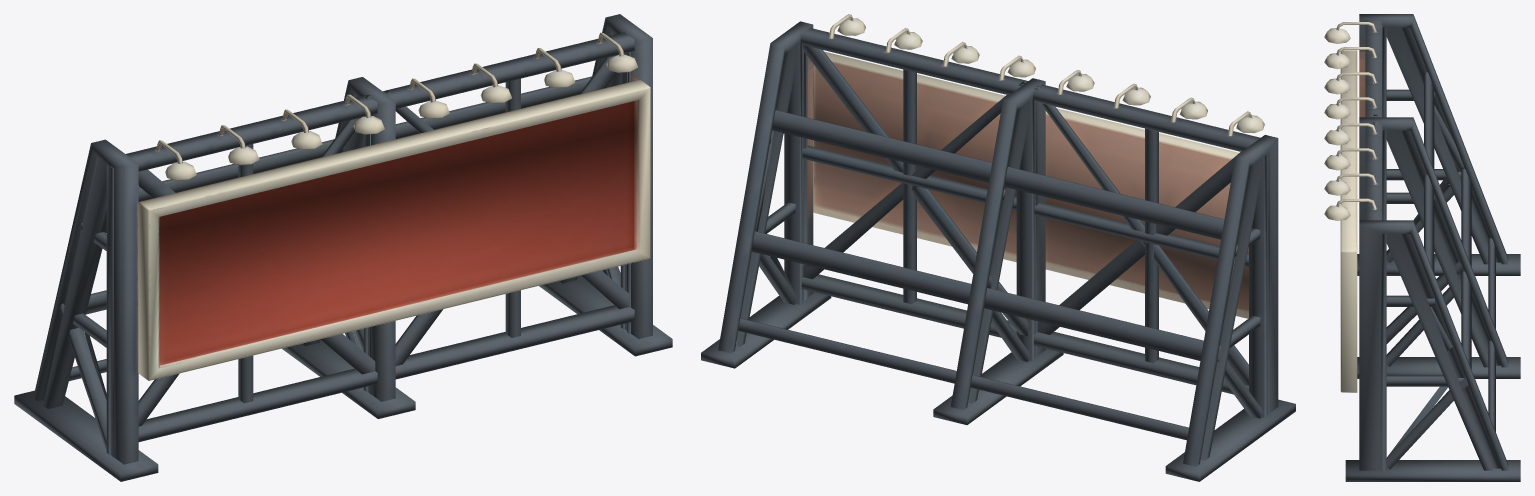
The model's file is wl_gas_billboard.glb.
The picture shows the model from 3 angles, left to right: view 1: azimuth 30°, elevation 25°; view 2: azimuth 150°, elevation 25°; view 3: azimuth 270°, elevation 25°; orthographic projection. The views are drawn at different scales.
Parts seen in each view (by area): view 1: wl_gas_billboard; view 2: wl_gas_billboard; view 3: wl_gas_billboard.
Part boxes in pixels (x1,y1,x2,y2): wl_gas_billboard: [14, 14, 672, 481]; wl_gas_billboard: [701, 14, 1295, 481]; wl_gas_billboard: [1324, 14, 1520, 481].
Size of the model in its own units: 0.9995 by 0.5503 by 0.3755.
1 material, 1 textured.
